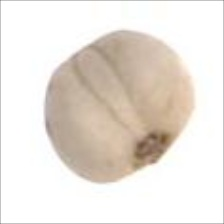L5: (68, 42, 154, 143), (129, 126, 177, 169), (56, 36, 104, 71)
L6: (41, 28, 199, 188)
